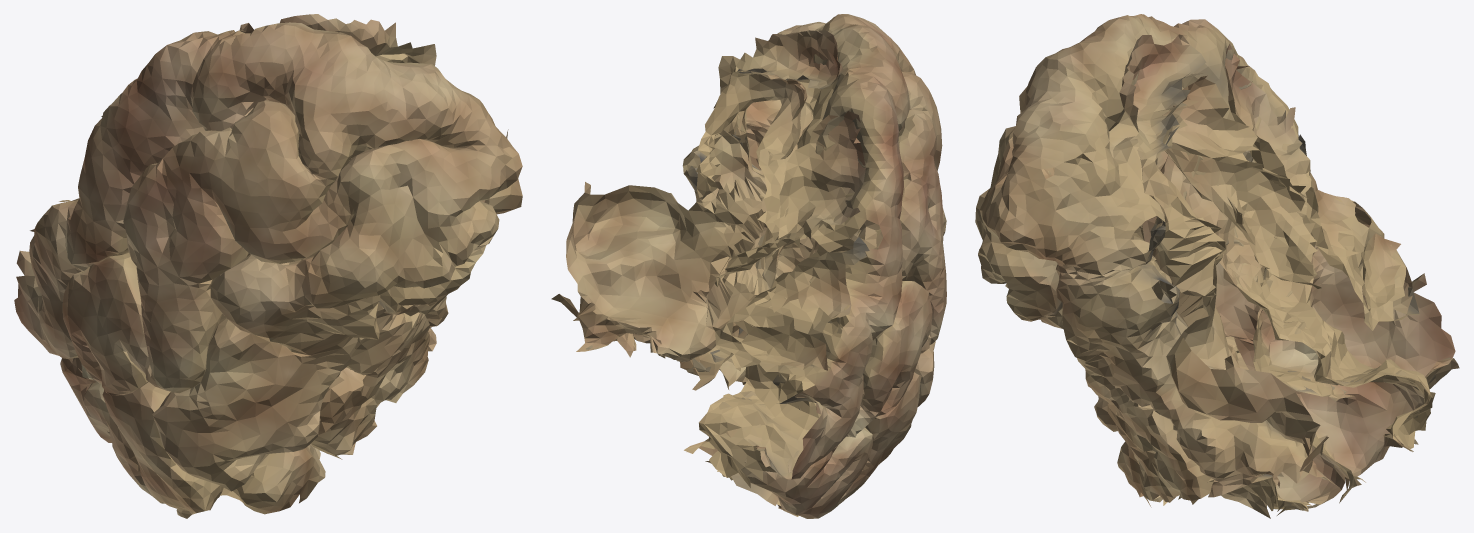
The model's file is R_Temporal_Lobe.obj.
3 renders of one model, left to right at view 1: azimuth 30°, elevation 25°; view 2: azimuth 150°, elevation 25°; view 3: azimuth 270°, elevation 25°, orthographic. The views are drawn at different scales.
Parts seen in each view (by area): view 1: R_Temporal_Lobe_R_Cortex_final.002; view 2: R_Temporal_Lobe_R_Cortex_final.002; view 3: R_Temporal_Lobe_R_Cortex_final.002.
Boxes of the visible parts, x1,y1,x2,y2 form: R_Temporal_Lobe_R_Cortex_final.002: (14,14,522,518); R_Temporal_Lobe_R_Cortex_final.002: (551,14,946,518); R_Temporal_Lobe_R_Cortex_final.002: (975,14,1459,518).
Size of the model in its own units: 262 by 319 by 273.
